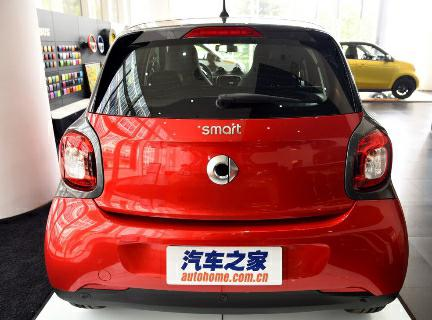smart-forfour: (45, 22, 407, 303)
